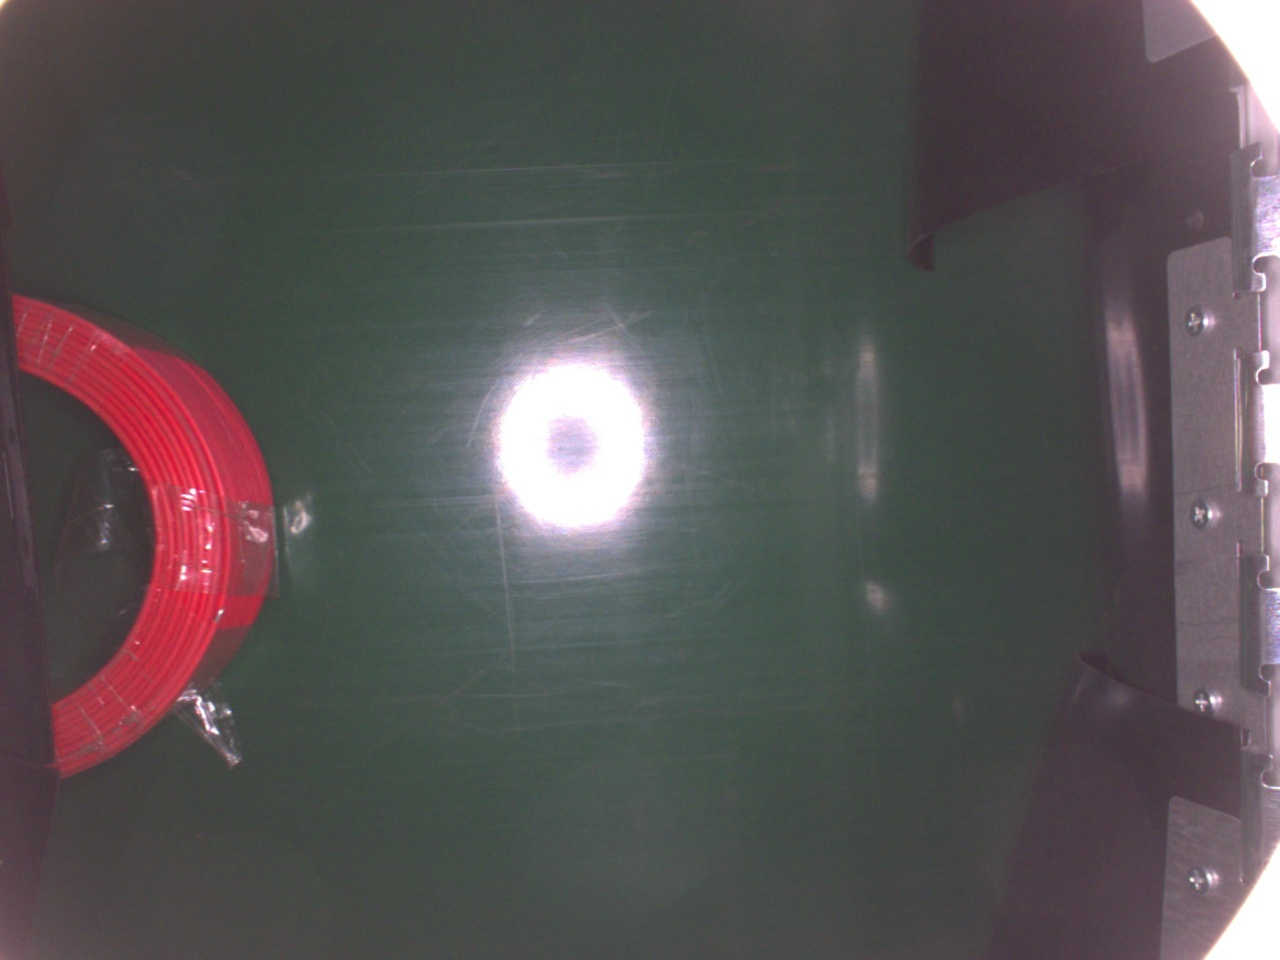red: (10, 286, 276, 798)
